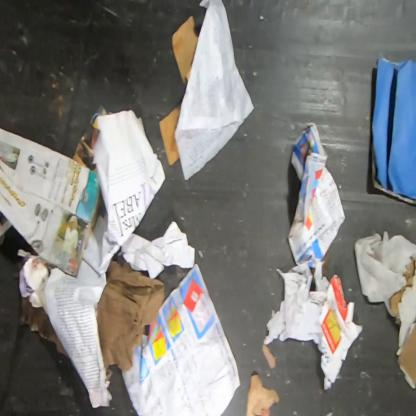cardboard: (0, 128, 102, 278), (96, 249, 165, 380), (367, 52, 415, 220), (388, 251, 416, 389), (19, 299, 70, 358), (171, 14, 200, 87), (159, 102, 183, 167), (14, 262, 25, 278)
